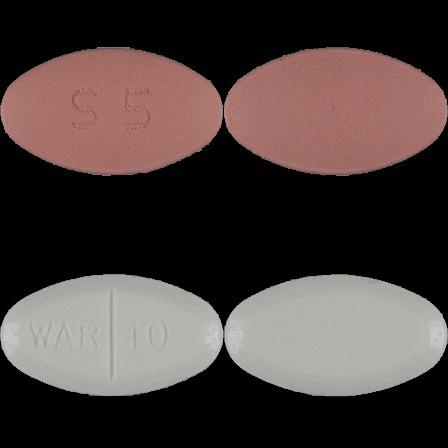52959-989: (0, 0, 224, 224)
